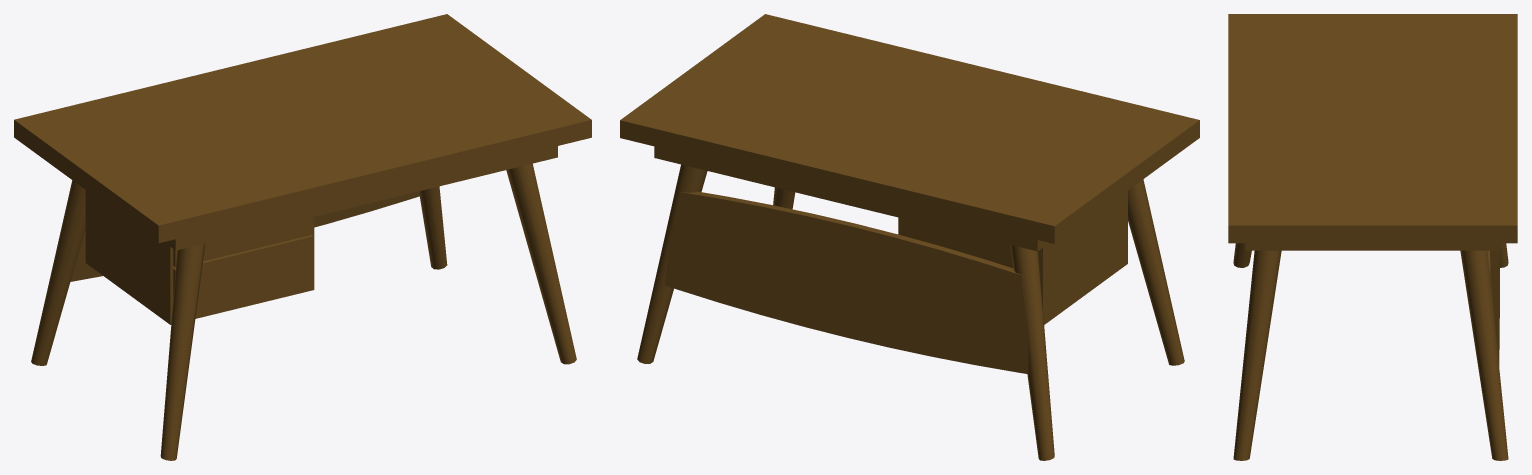
Rendered from desk.fbx.
3 views of the same model, side by side, from view 1: azimuth 30°, elevation 25°; view 2: azimuth 150°, elevation 25°; view 3: azimuth 270°, elevation 25° (orthographic).
Parts seen in each view (by area): view 1: Desk; view 2: Desk; view 3: Desk.
Boxes of the visible parts, x1,y1,x2,y2 form: Desk: (14, 14, 591, 460); Desk: (620, 14, 1199, 460); Desk: (1228, 14, 1517, 460).
Size of the model in its own units: 170 by 98.47 by 90.99.
